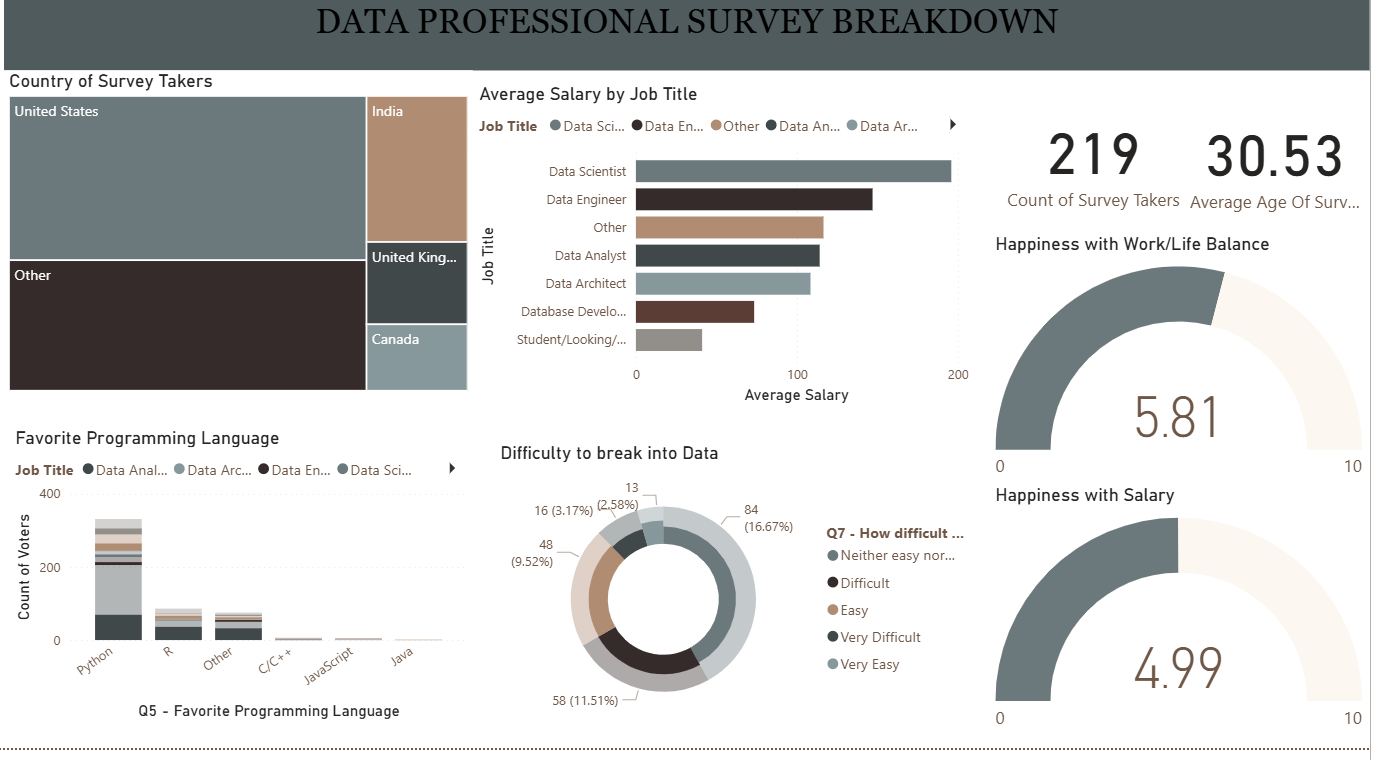

What the dashboard file says about the page in this screenshot:
{"tool":"powerbi","page":{"name":"Page 1","canvas":[1280,720],"ordinal":0},"visuals":[{"type":"textbox","box":[9.6,20.6,1270.7,68.6],"z":0},{"type":"card","fields":{"Values":["Count(Data Professional Survey.Unique ID.1.1)"]},"box":[926.4,101.1,192.7,139.4],"z":1},{"type":"card","fields":{"Values":["Avg(Data Professional Survey.Q10 - Current Age)"]},"box":[1105.4,90.2,172.2,164],"z":2},{"type":"barChart","title":"Average Salary by Job Title","fields":{"Category":["Data Professional Survey.Q1 - Which Title Best Fits your Current Role?.1"],"Y":["Avg(Data Professional Survey.Average Salary)"],"Series":["Data Professional Survey.Q1 - Which Title Best Fits your Current Role?.1"]},"box":[446,101.5,465.2,303.3],"z":3},{"type":"columnChart","title":"Favorite Programming Language","fields":{"Category":["Data Professional Survey.Q5 - Favorite Programming Language.1"],"Y":["CountNonNull(Data Professional Survey.Unique ID.1.1)"],"Series":["Data Professional Survey.Q1 - Which Title Best Fits your Current Role?.1"]},"box":[15,420.8,430.4,277.4],"z":4},{"type":"treemap","title":"Country of Survey Takers","fields":{"Group":["Data Professional Survey.Q11 - Which Country do you live in?.1"],"Values":["CountNonNull(Data Professional Survey.Q11 - Which Country do you live in?.1)"]},"box":[9.6,89.2,436.4,303.3],"z":5},{"type":"gauge","title":"Happiness with Work/Life Balance","fields":{"Y":["Avg(Data Professional Survey.Q6 - How Happy are you in your Current Position with the following? (Management))"],"MinValue":["Min(Data Professional Survey.Q6 - How Happy are you in your Current Position with the following? (Management))1"],"MaxValue":["Max(Data Professional Survey.Q6 - How Happy are you in your Current Position with the following? (Management))2"]},"box":[926.4,240.5,351.2,245.9],"z":6},{"type":"gauge","title":"Happiness with Salary ","fields":{"Y":["Avg(Data Professional Survey.Q6 - How Happy are you in your Current Position with the following? (Salary))"],"MinValue":["Min(Data Professional Survey.Q6 - How Happy are you in your Current Position with the following? (Salary))"],"MaxValue":["Max(Data Professional Survey.Q6 - How Happy are you in your Current Position with the following? (Salary))"]},"box":[926.4,474.1,351.2,245.9],"z":7},{"type":"donutChart","title":"Difficulty to break into Data ","fields":{"Category":["Data Professional Survey.Q7 - How difficult was it for you to break into Data?"],"Y":["CountNonNull(Data Professional Survey.Q7 - How difficult was it for you to break into Data?)"]},"box":[465.9,434.5,444.1,274.6],"z":8},{"type":"qnaVisual","box":[0,709.1,15,10.9],"z":9}]}

Visuals, with their boxes in screenshot pixels (x1, y1, x2, y2), scaled from the page's 1280x720 canvas onto the 1377x760 screenshot:
textbox: select_region(10, 22, 1376, 94)
card - Count(Data Professional Survey.Unique ID.1.1): select_region(997, 107, 1204, 254)
card - Avg(Data Professional Survey.Q10 - Current Age): select_region(1189, 95, 1374, 268)
"Average Salary by Job Title" barChart: select_region(480, 107, 980, 427)
"Favorite Programming Language" columnChart: select_region(16, 444, 479, 737)
"Country of Survey Takers" treemap: select_region(10, 94, 480, 414)
"Happiness with Work/Life Balance" gauge: select_region(997, 254, 1374, 513)
"Happiness with Salary " gauge: select_region(997, 500, 1374, 759)
"Difficulty to break into Data " donutChart: select_region(501, 459, 979, 748)
qnaVisual: select_region(0, 748, 16, 759)
